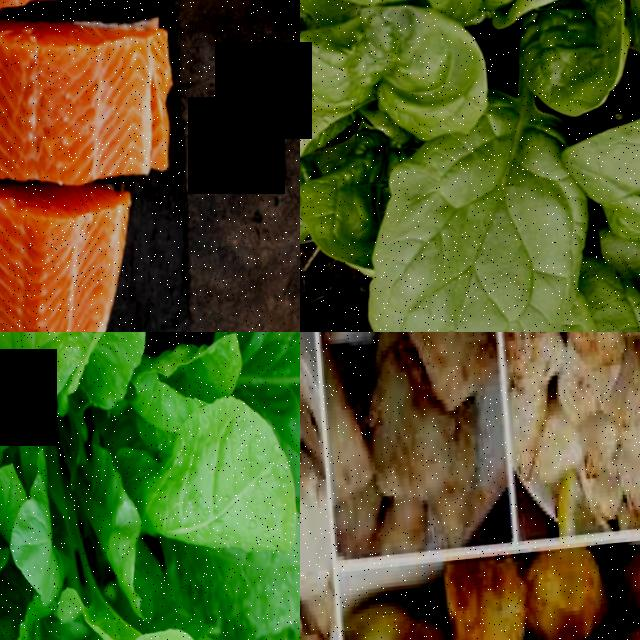salmon: (0, 6, 173, 203), (0, 187, 131, 332)
spinach: (364, 126, 575, 332), (141, 396, 294, 573), (300, 6, 488, 132), (514, 0, 625, 122), (0, 332, 101, 462), (583, 126, 640, 244), (300, 0, 460, 20)
